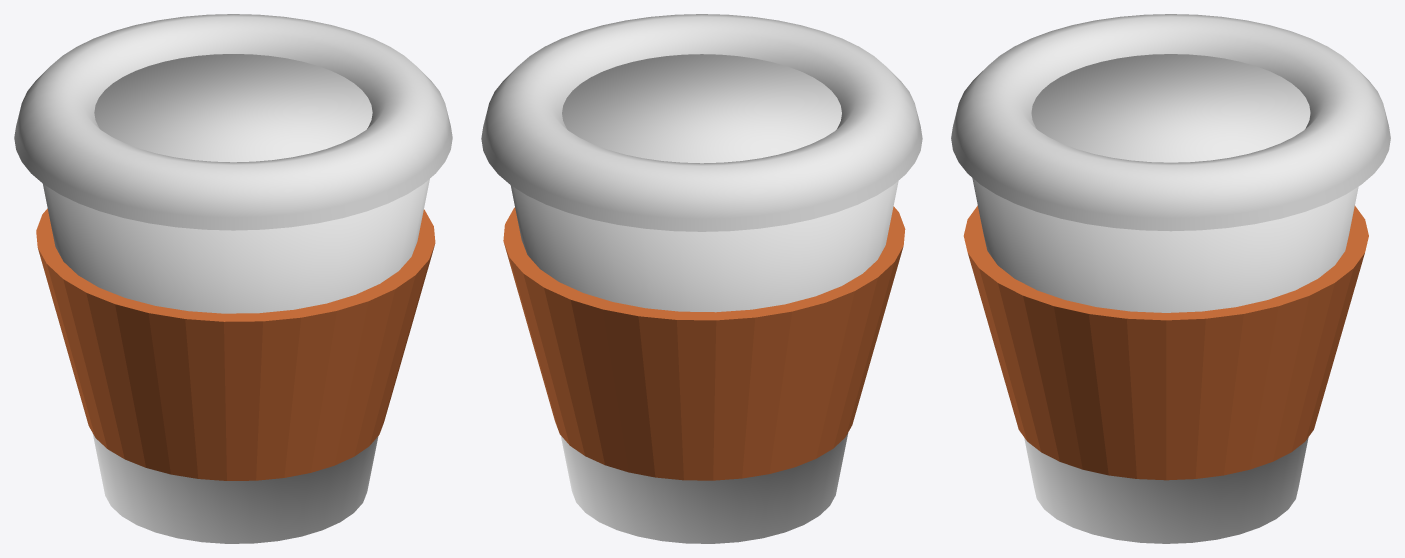
Rendered from coffee.fbx.
The picture shows the model from 3 angles, left to right: view 1: azimuth 30°, elevation 25°; view 2: azimuth 150°, elevation 25°; view 3: azimuth 270°, elevation 25°; orthographic projection.
Parts seen in each view (by area): view 1: Cylinder, Cylinder.001, Torus.001; view 2: Cylinder, Cylinder.001, Torus.001; view 3: Cylinder, Cylinder.001, Torus.001.
Part boxes in pixels (x1,y1,x2,y2): Cylinder: (43,54,429,543); Cylinder.001: (36,208,435,480); Torus.001: (14,14,452,230); Cylinder: (510,54,898,543); Cylinder.001: (503,206,905,480); Torus.001: (481,14,922,231); Cylinder: (972,54,1358,543); Cylinder.001: (963,205,1368,480); Torus.001: (951,14,1390,231).
Size of the model in its own units: 213 by 212 by 213.
